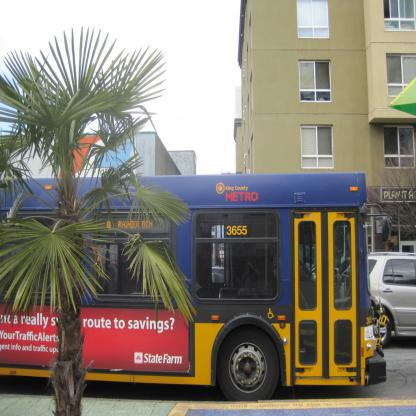Bus: (0, 172, 391, 400)
Car: (366, 247, 415, 347), (213, 267, 225, 283)
